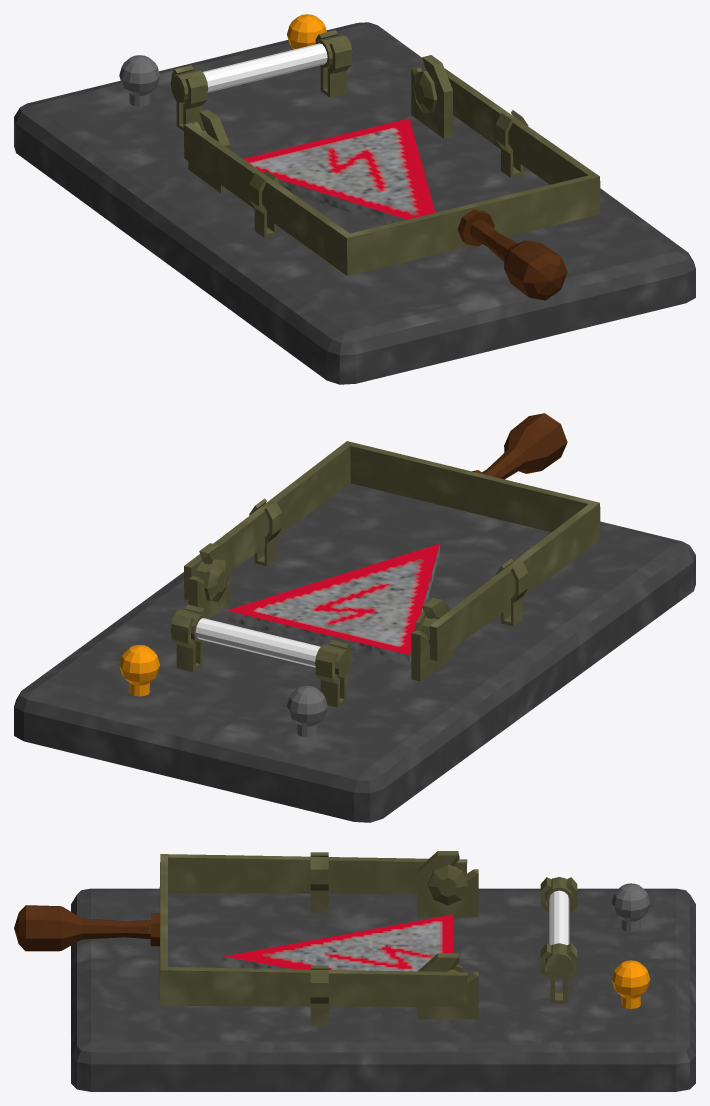
File: Elshid.fbx
3 renders of one model, top to bottom at view 1: azimuth 30°, elevation 25°; view 2: azimuth 150°, elevation 25°; view 3: azimuth 270°, elevation 25°, orthographic. The views are drawn at different scales.
Parts seen in each view (by area): view 1: Kontakt, Richag, Pedohranitel, Lamp2, Lamp1; view 2: Kontakt, Richag, Pedohranitel, Lamp1, Lamp2; view 3: Kontakt, Richag, Pedohranitel, Lamp1, Lamp2.
Part boxes in pixels (left/top/right/bottom): Kontakt: left=14, top=22, right=695, bottom=384; Richag: left=184, top=68, right=600, bottom=300; Pedohranitel: left=170, top=34, right=352, bottom=102; Lamp2: left=119, top=55, right=159, bottom=106; Lamp1: left=287, top=14, right=326, bottom=49; Kontakt: left=14, top=483, right=695, bottom=822; Richag: left=184, top=413, right=600, bottom=660; Pedohranitel: left=170, top=609, right=352, bottom=677; Lamp1: left=119, top=645, right=159, bottom=696; Lamp2: left=287, top=685, right=327, bottom=737; Kontakt: left=71, top=851, right=695, bottom=1091; Richag: left=14, top=854, right=467, bottom=1006; Pedohranitel: left=545, top=877, right=572, bottom=978; Lamp1: left=611, top=960, right=650, bottom=1008; Lamp2: left=611, top=883, right=650, bottom=931.
Size of the model in its own units: 438 by 125 by 749.
Materials: 3 (1 with a texture image).
